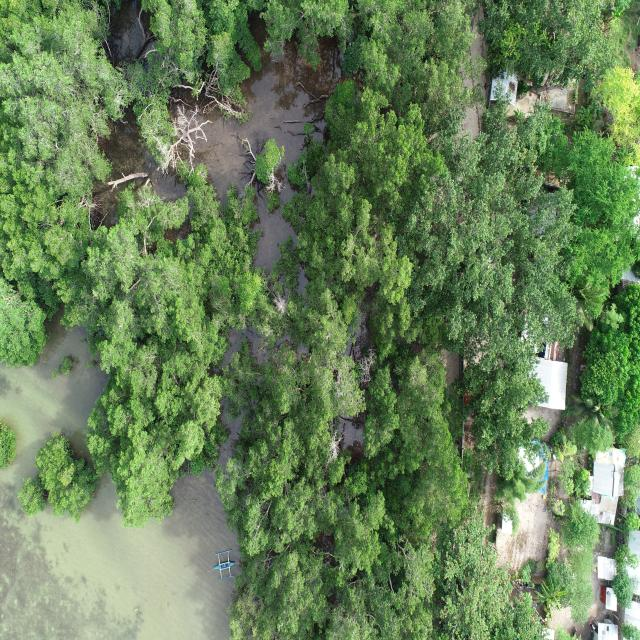Tree: (84, 174, 258, 540), (0, 0, 122, 366), (403, 111, 573, 348), (219, 293, 357, 562), (542, 123, 640, 303), (295, 154, 412, 300), (459, 310, 543, 486), (354, 0, 474, 121), (390, 357, 466, 543), (142, 0, 266, 106), (348, 86, 442, 212), (326, 538, 436, 640), (479, 0, 594, 88), (578, 283, 640, 434), (229, 542, 324, 640), (438, 505, 506, 640), (20, 418, 90, 549), (260, 0, 350, 74), (591, 65, 640, 174), (362, 363, 396, 459), (494, 589, 549, 640), (367, 299, 400, 365), (566, 422, 616, 463), (253, 138, 285, 194), (563, 502, 600, 550), (529, 574, 563, 622), (565, 576, 595, 626), (567, 542, 594, 582), (0, 410, 14, 481), (613, 570, 634, 611), (615, 615, 640, 640)
